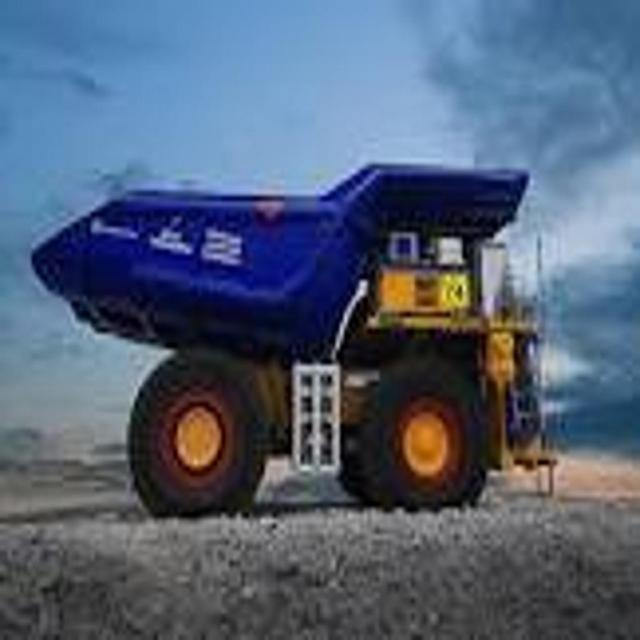dump_truck: (27, 145, 574, 516)
